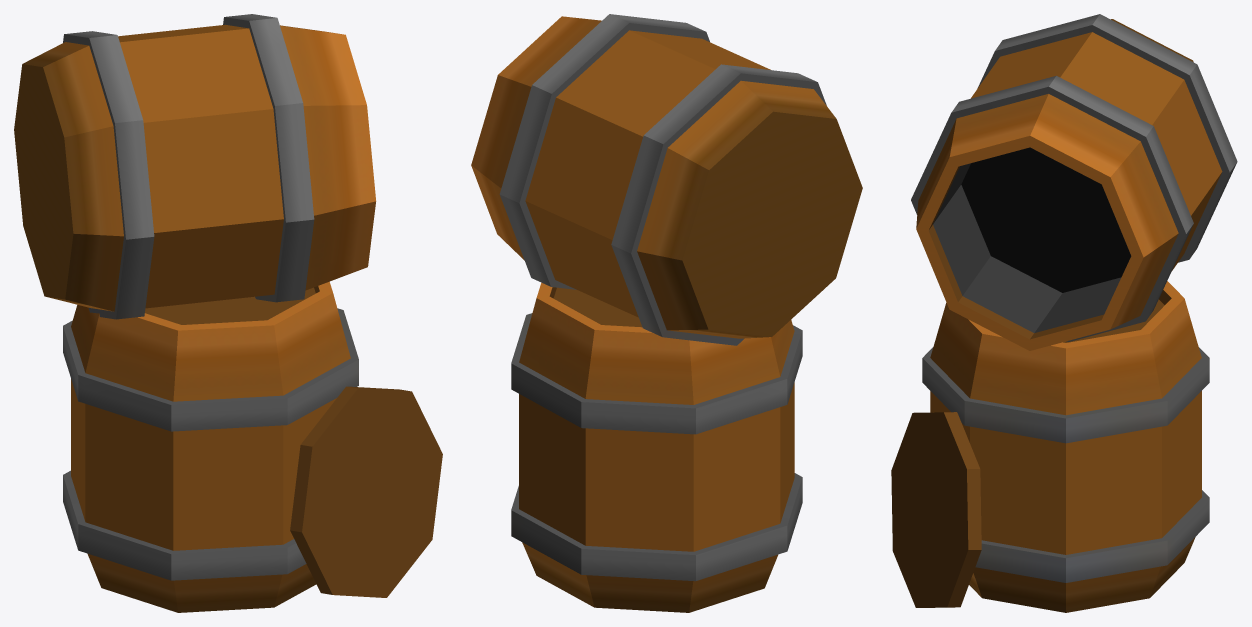
Rendered from Barrio.glb.
3 renders of one model, left to right at view 1: azimuth 30°, elevation 25°; view 2: azimuth 150°, elevation 25°; view 3: azimuth 270°, elevation 25°, orthographic. The views are drawn at different scales.
Parts seen in each view (by area): view 1: Barrio; view 2: Barrio; view 3: Barrio.
Boxes of the visible parts, x1,y1,x2,y2 form: Barrio: (14,14,442,612); Barrio: (471,14,862,612); Barrio: (891,14,1237,612).
Bounding box in the file's own units: 2.36 × 3.45 × 2.14.
Materials: 1 (1 with a texture image).
